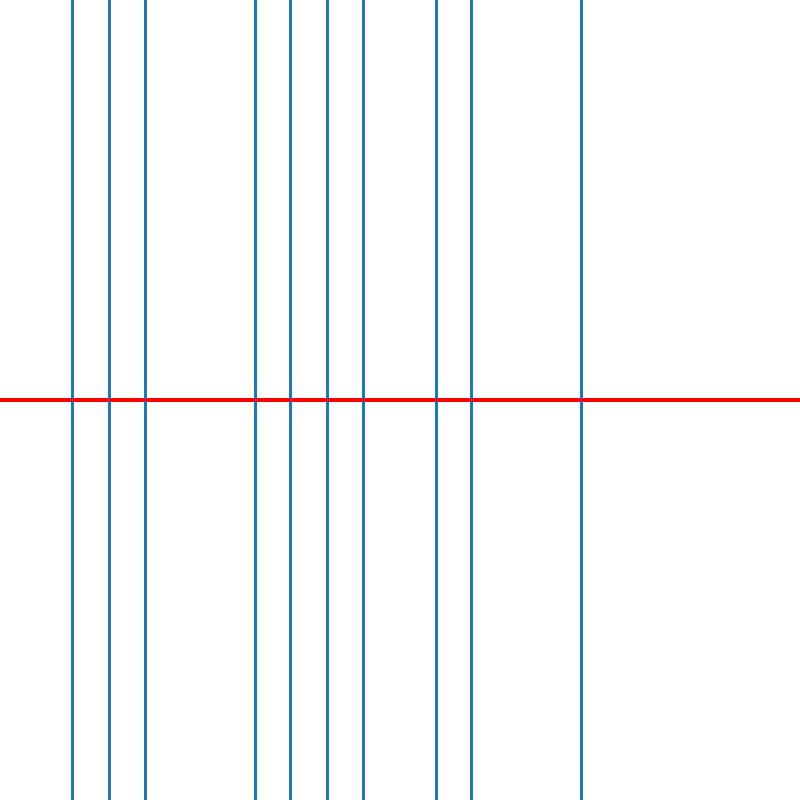root: (250, 396, 258, 404), (141, 396, 149, 404), (432, 396, 440, 404), (287, 396, 294, 404), (360, 396, 367, 404), (578, 396, 585, 404), (469, 396, 476, 404), (105, 396, 112, 404), (323, 396, 330, 404), (69, 396, 76, 404)
